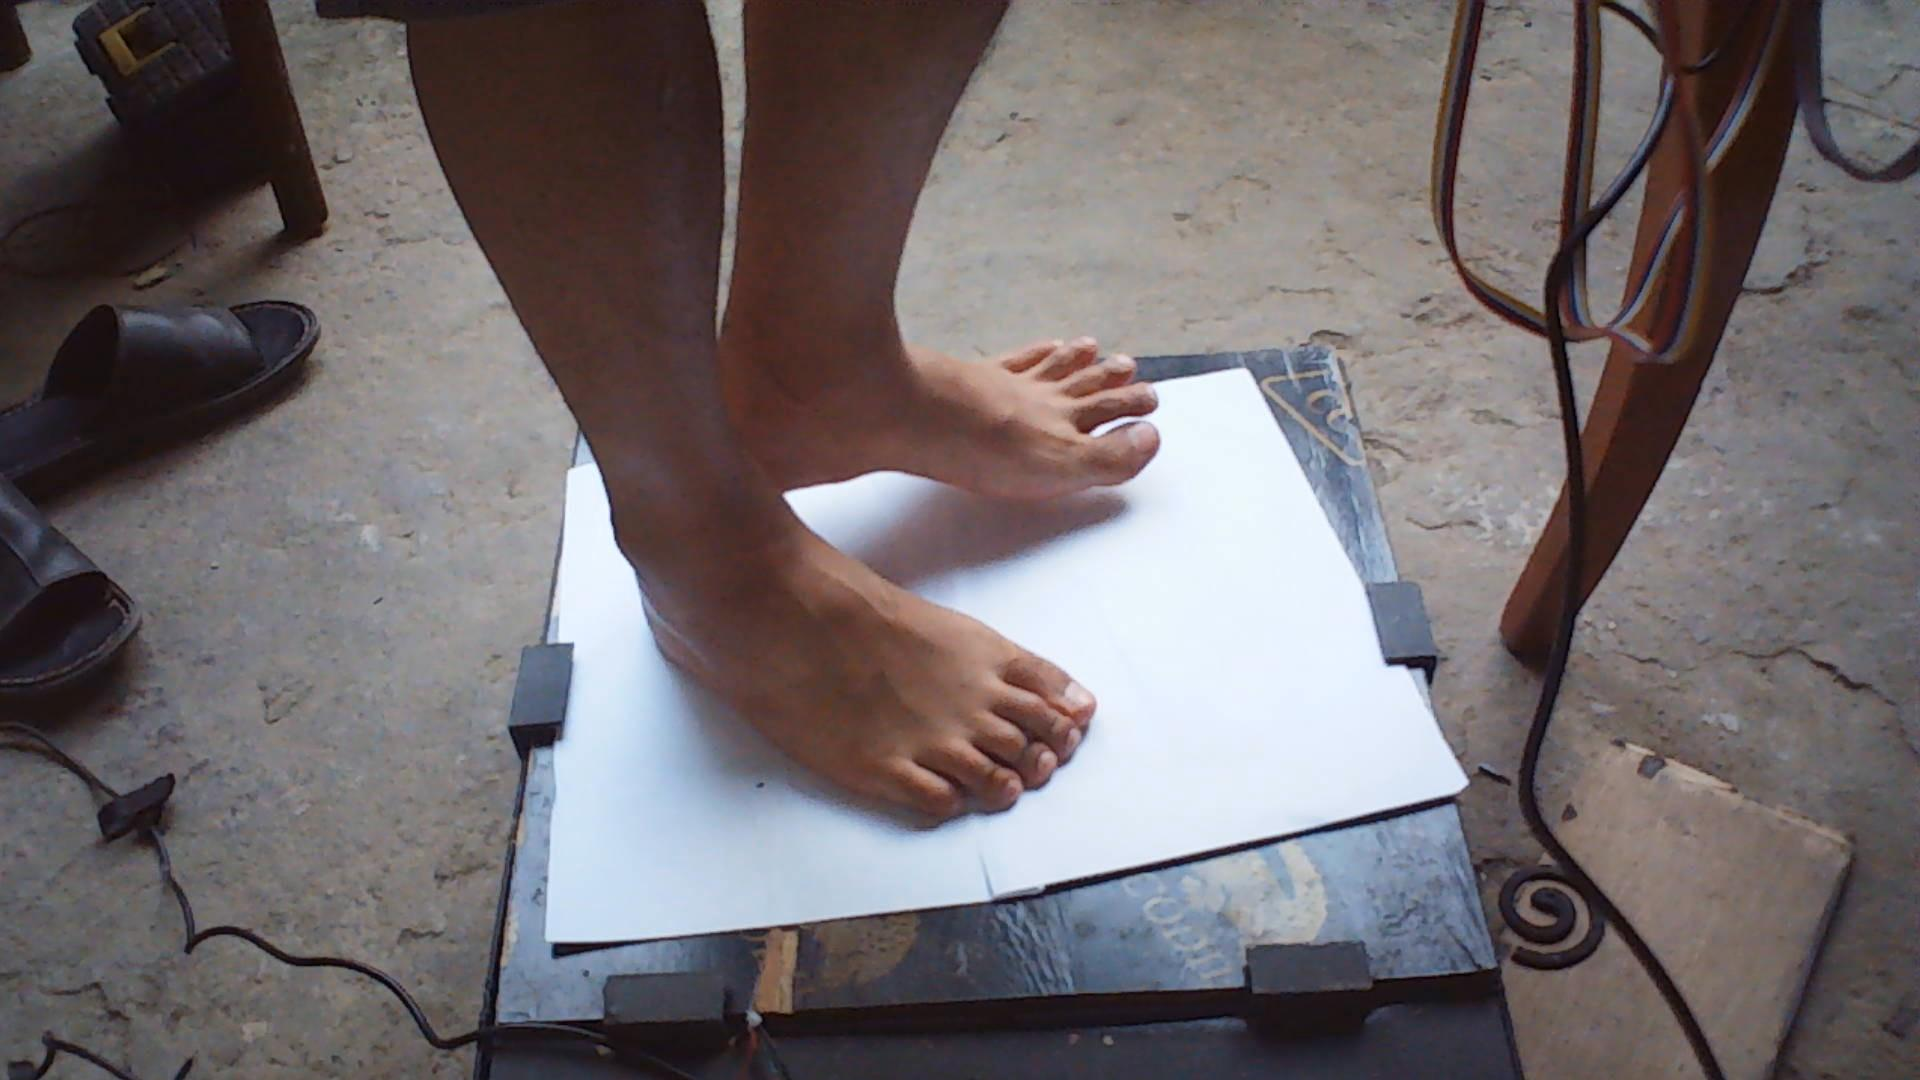Bare_feet: (560, 467, 1191, 827), (716, 301, 1164, 502)
